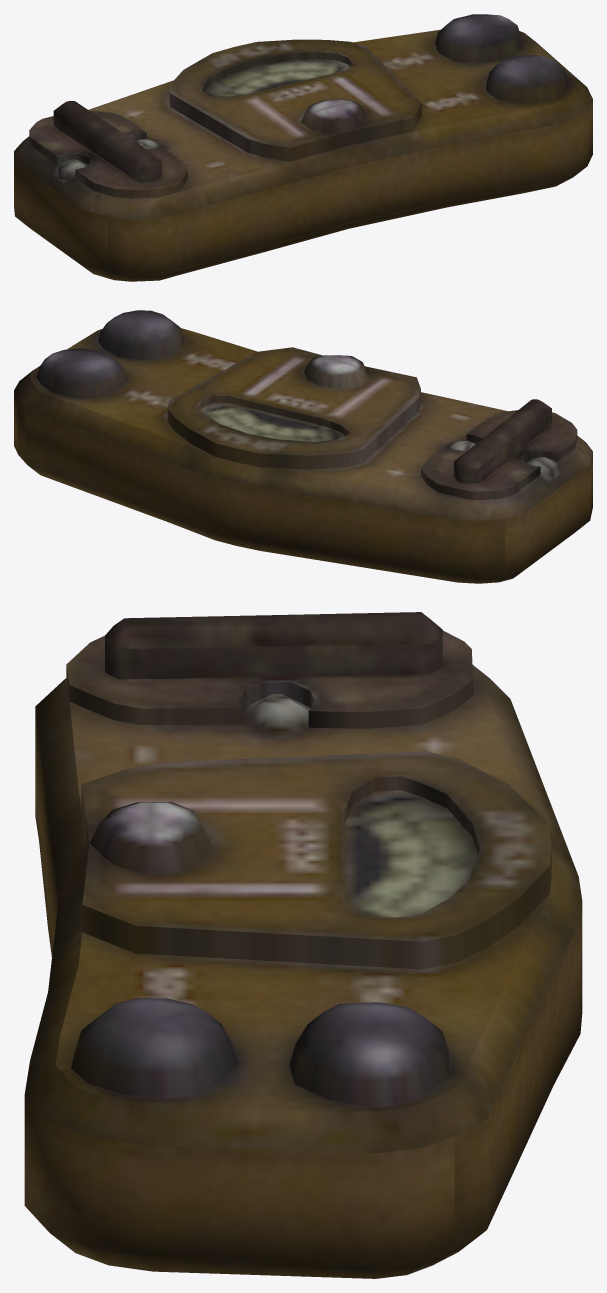
Rendered from dosimeter_2.obj.
3 views of the same model, one above another, from view 1: azimuth 30°, elevation 25°; view 2: azimuth 150°, elevation 25°; view 3: azimuth 270°, elevation 25° (orthographic). The views are drawn at different scales.
Visible parts, largest first — view 1: dosimeter_2; view 2: dosimeter_2; view 3: dosimeter_2.
Boxes of the visible parts, <box> form: dosimeter_2: <box>14,14,592,281</box>; dosimeter_2: <box>14,310,592,583</box>; dosimeter_2: <box>24,612,582,1278</box>.
Size of the model in its own units: 0.3097 by 0.0656 by 0.1459.
